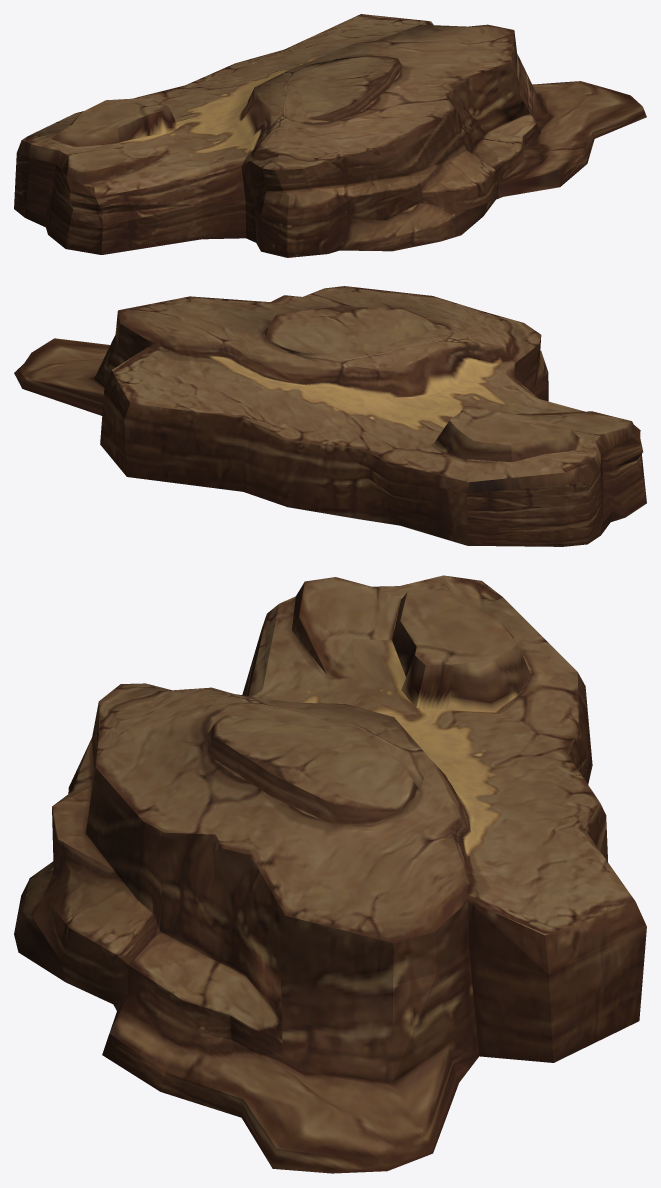
The model's file is nashgar_natural_rock_small02_01.FBX.
The picture shows the model from 3 angles, top to bottom: view 1: azimuth 30°, elevation 25°; view 2: azimuth 150°, elevation 25°; view 3: azimuth 270°, elevation 25°; orthographic projection. The views are drawn at different scales.
Parts seen in each view (by area): view 1: nashgar_natural_rock_small02_01; view 2: nashgar_natural_rock_small02_01; view 3: nashgar_natural_rock_small02_01.
Boxes of the visible parts, bbox=[...] form: nashgar_natural_rock_small02_01: bbox=[14, 14, 646, 257]; nashgar_natural_rock_small02_01: bbox=[14, 286, 646, 546]; nashgar_natural_rock_small02_01: bbox=[14, 575, 646, 1173].
Bounding box in the file's own units: 15.96 × 2.71 × 8.9.
